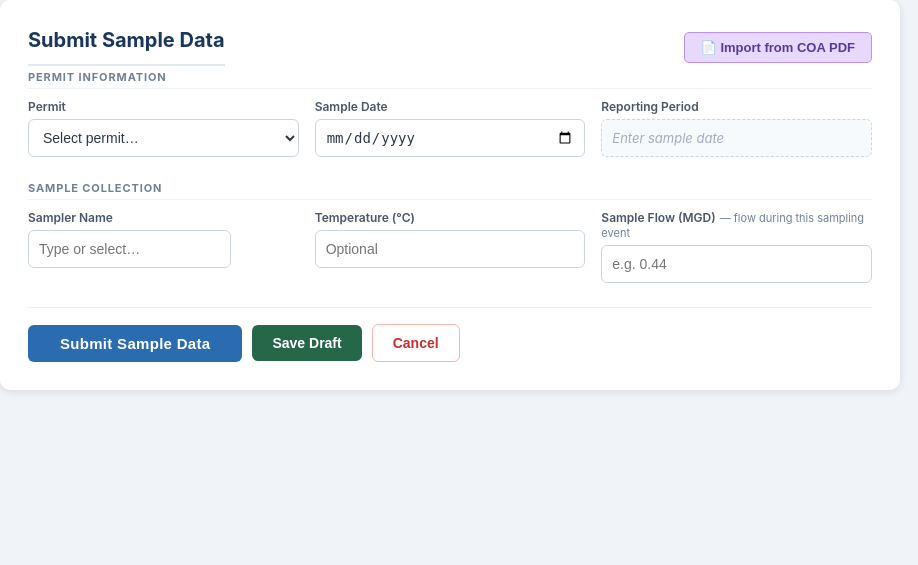
Test case: SampleForm — rendering › flow limit parameter is not shown in lab results
The width and height of the screenshot is (918, 565).
Step 1. Select "Kraft-Henize — 004" in the dropdown → (163,138), box left=28, top=119, right=299, bottom=157
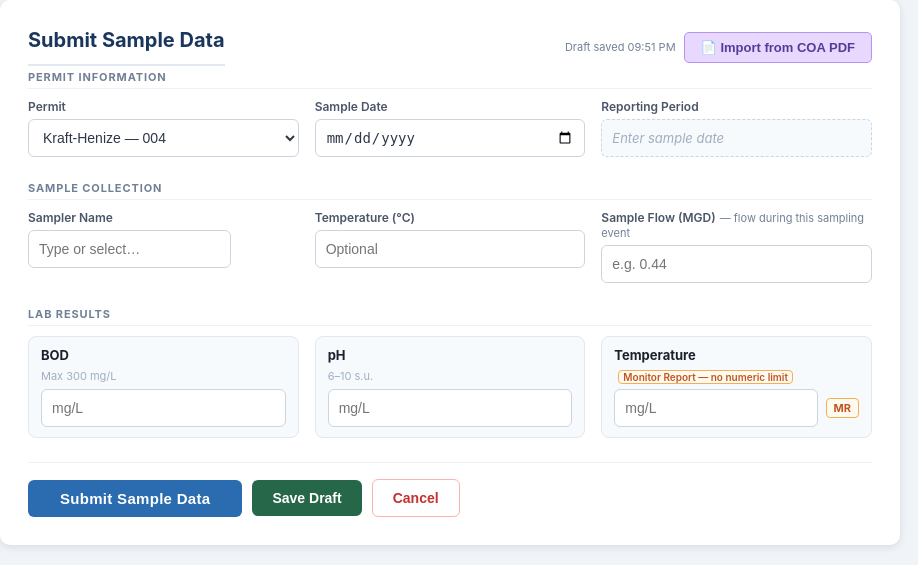
Expected: the text "BOD" is shown, left=41, top=347, right=69, bottom=363
